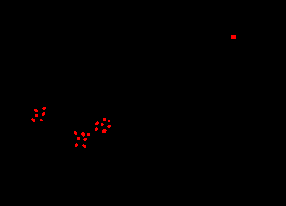Target: (231, 35, 236, 39), (102, 129, 107, 133), (81, 132, 85, 137), (31, 118, 35, 122), (95, 121, 99, 125), (82, 144, 86, 148), (42, 107, 46, 110), (34, 109, 38, 112), (42, 112, 45, 116), (107, 125, 111, 128), (95, 127, 98, 131), (74, 131, 77, 135), (83, 138, 87, 141), (75, 143, 78, 147), (35, 114, 38, 117), (103, 118, 106, 121), (101, 123, 104, 126), (87, 133, 90, 136), (77, 137, 80, 140), (40, 119, 43, 121), (108, 120, 110, 122)
